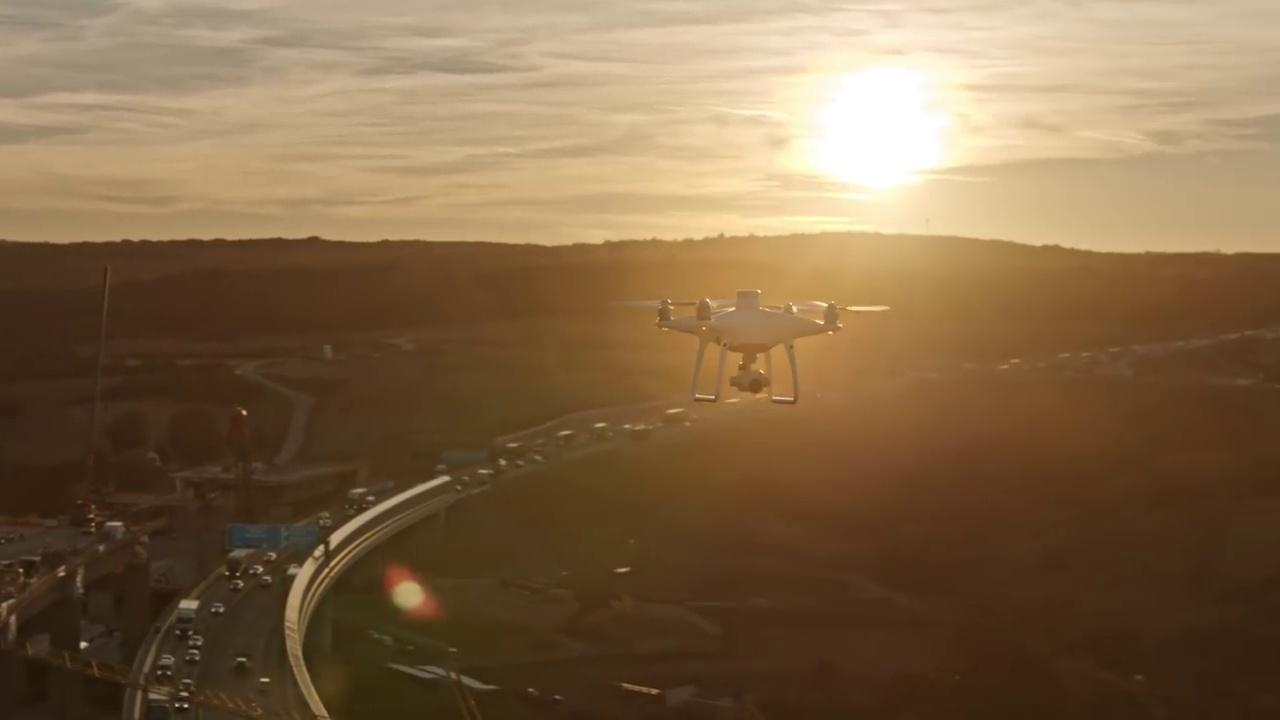drone: (616, 281, 894, 407)
